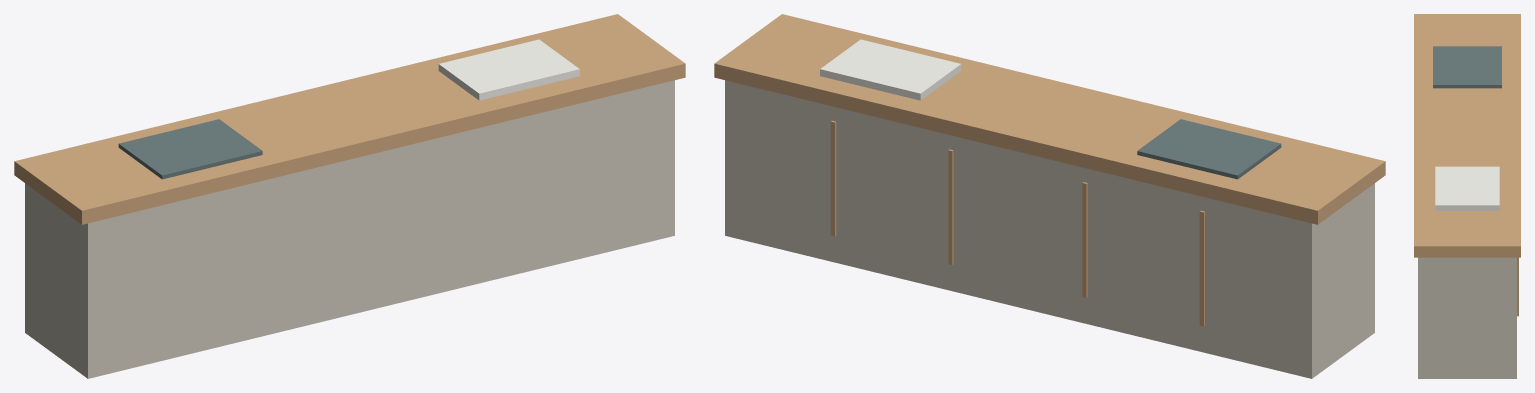
Rendered from kitchen-counter.glb.
3 views of the same model, side by side, from view 1: azimuth 30°, elevation 25°; view 2: azimuth 150°, elevation 25°; view 3: azimuth 270°, elevation 25° (orthographic). The views are drawn at different scales.
Size of the model in its own units: 3.6 by 1.02 by 0.7.
